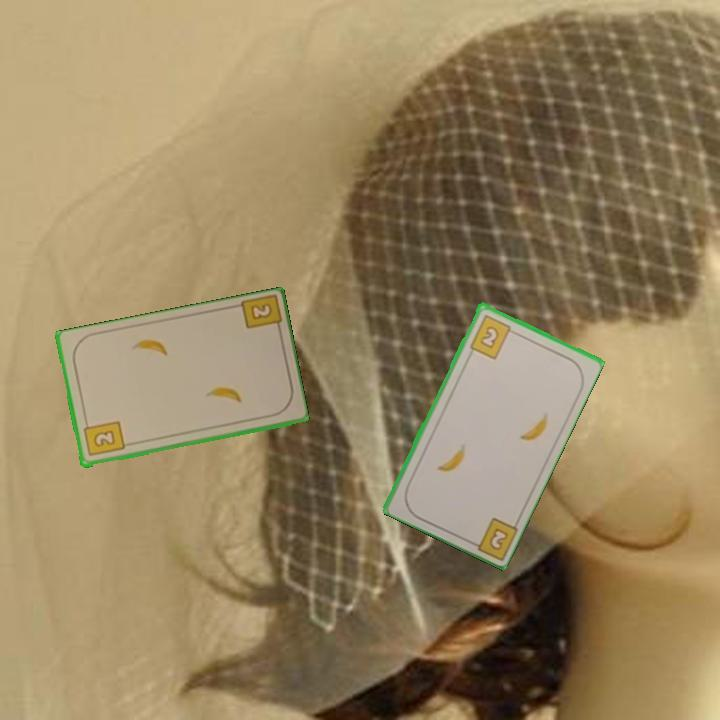2b: (464, 513, 520, 561), (466, 311, 518, 361), (236, 293, 284, 337), (80, 417, 127, 459)
